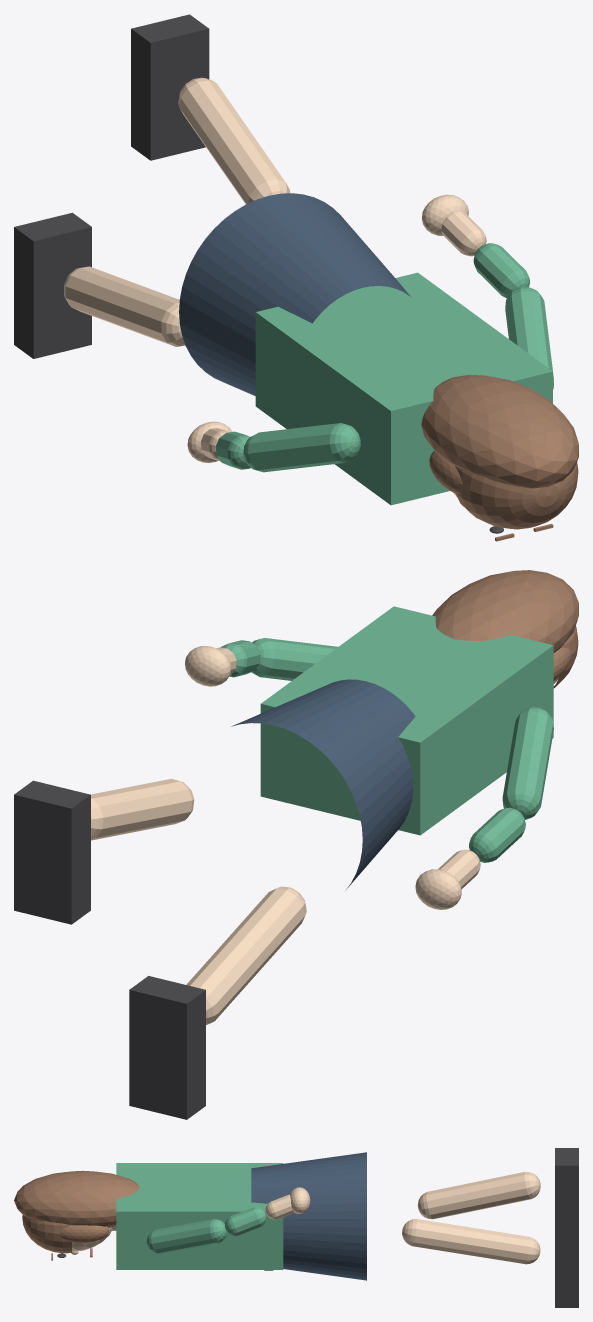
Rendered from female_walk.glb.
3 renders of one model, top to bottom at view 1: azimuth 30°, elevation 25°; view 2: azimuth 150°, elevation 25°; view 3: azimuth 270°, elevation 25°, orthographic. The views are drawn at different scales.
Parts seen in each view (by area): view 1: CHAR_FEMALE_001_torso_jacket, CHAR_FEMALE_001_skirt, CHAR_FEMALE_001_back_hair, CHAR_FEMALE_001_shoe_L, CHAR_FEMALE_001_shoe_R, CHAR_FEMALE_001_calf_R, CHAR_FEMALE_001_calf_L, CHAR_FEMALE_001_hair_cap, CHAR_FEMALE_001_upper_arm_L, CHAR_FEMALE_001_upper_arm_R, CHAR_FEMALE_001_forearm_R, CHAR_FEMALE_001_wrist_R (+4 smaller); view 2: CHAR_FEMALE_001_torso_jacket, CHAR_FEMALE_001_skirt, CHAR_FEMALE_001_shoe_L, CHAR_FEMALE_001_shoe_R, CHAR_FEMALE_001_back_hair, CHAR_FEMALE_001_calf_L, CHAR_FEMALE_001_calf_R, CHAR_FEMALE_001_upper_arm_L, CHAR_FEMALE_001_upper_arm_R, CHAR_FEMALE_001_forearm_L, CHAR_FEMALE_001_hand_R, CHAR_FEMALE_001_hand_L (+2 smaller); view 3: CHAR_FEMALE_001_torso_jacket, CHAR_FEMALE_001_skirt, CHAR_FEMALE_001_back_hair, CHAR_FEMALE_001_calf_L, CHAR_FEMALE_001_calf_R, CHAR_FEMALE_001_shoe_R, CHAR_FEMALE_001_upper_arm_R, CHAR_FEMALE_001_shoe_L, CHAR_FEMALE_001_hair_cap, CHAR_FEMALE_001_forearm_R, CHAR_FEMALE_001_hair_side_R, CHAR_FEMALE_001_wrist_R (+2 smaller).
Boxes of the visible parts, bbox=[...] form: CHAR_FEMALE_001_torso_jacket: bbox=[255, 272, 552, 505]; CHAR_FEMALE_001_skirt: bbox=[179, 193, 411, 395]; CHAR_FEMALE_001_back_hair: bbox=[421, 374, 578, 488]; CHAR_FEMALE_001_shoe_L: bbox=[14, 212, 91, 358]; CHAR_FEMALE_001_shoe_R: bbox=[131, 14, 209, 160]; CHAR_FEMALE_001_calf_R: bbox=[178, 77, 290, 204]; CHAR_FEMALE_001_calf_L: bbox=[63, 266, 185, 346]; CHAR_FEMALE_001_hair_cap: bbox=[455, 462, 578, 529]; CHAR_FEMALE_001_upper_arm_L: bbox=[243, 423, 360, 472]; CHAR_FEMALE_001_upper_arm_R: bbox=[505, 287, 553, 389]; CHAR_FEMALE_001_forearm_R: bbox=[473, 243, 529, 297]; CHAR_FEMALE_001_wrist_R: bbox=[441, 210, 486, 256]; CHAR_FEMALE_001_torso_jacket: bbox=[260, 606, 553, 835]; CHAR_FEMALE_001_skirt: bbox=[230, 679, 415, 889]; CHAR_FEMALE_001_shoe_L: bbox=[129, 976, 205, 1119]; CHAR_FEMALE_001_shoe_R: bbox=[14, 780, 90, 924]; CHAR_FEMALE_001_back_hair: bbox=[432, 570, 578, 652]; CHAR_FEMALE_001_calf_L: bbox=[186, 886, 306, 1024]; CHAR_FEMALE_001_calf_R: bbox=[91, 778, 194, 840]; CHAR_FEMALE_001_upper_arm_L: bbox=[502, 707, 553, 819]; CHAR_FEMALE_001_upper_arm_R: bbox=[251, 638, 337, 680]; CHAR_FEMALE_001_forearm_L: bbox=[469, 807, 525, 862]; CHAR_FEMALE_001_hand_R: bbox=[185, 646, 231, 686]; CHAR_FEMALE_001_hand_L: bbox=[415, 869, 461, 909]; CHAR_FEMALE_001_torso_jacket: bbox=[116, 1163, 283, 1269]; CHAR_FEMALE_001_skirt: bbox=[251, 1152, 366, 1280]; CHAR_FEMALE_001_back_hair: bbox=[14, 1170, 139, 1227]; CHAR_FEMALE_001_calf_L: bbox=[402, 1219, 540, 1264]; CHAR_FEMALE_001_calf_R: bbox=[417, 1171, 540, 1219]; CHAR_FEMALE_001_shoe_R: bbox=[555, 1148, 578, 1238]; CHAR_FEMALE_001_upper_arm_R: bbox=[146, 1219, 227, 1253]; CHAR_FEMALE_001_shoe_L: bbox=[555, 1238, 578, 1307]; CHAR_FEMALE_001_hair_cap: bbox=[22, 1215, 71, 1253]; CHAR_FEMALE_001_forearm_R: bbox=[225, 1207, 266, 1235]; CHAR_FEMALE_001_hair_side_R: bbox=[60, 1225, 109, 1242]; CHAR_FEMALE_001_wrist_R: bbox=[265, 1194, 294, 1219].
Size of the model in its own units: 0.6451 by 0.5923 by 1.71.
